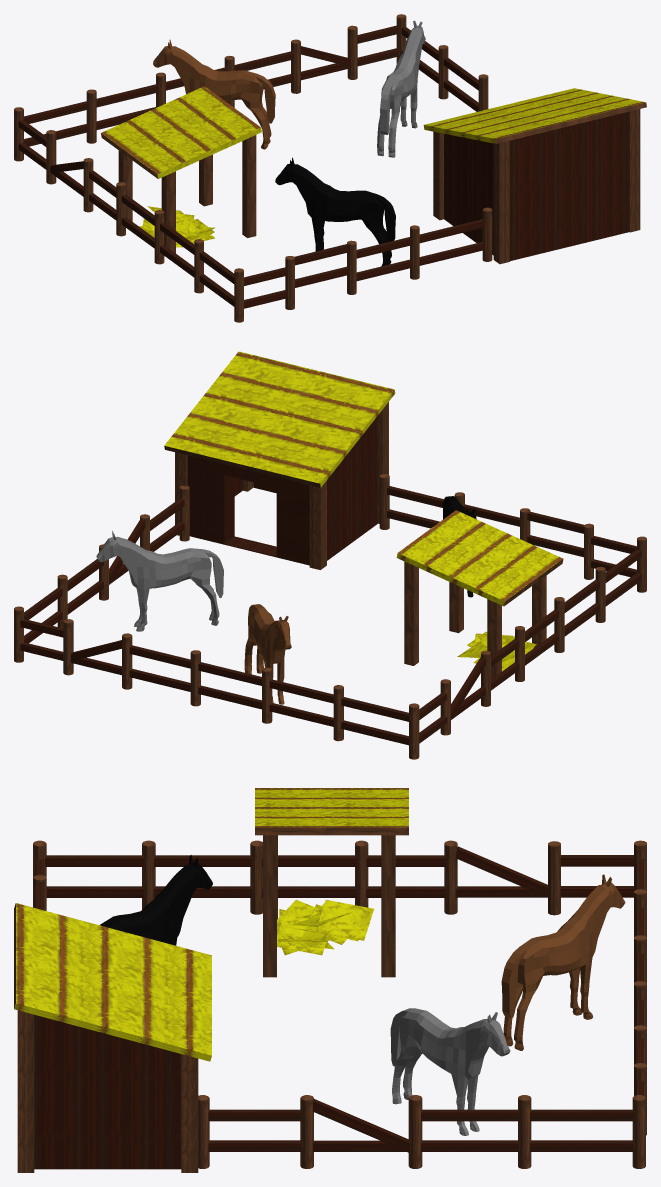
The model's file is BatElevage.fbx.
3 renders of one model, top to bottom at view 1: azimuth 30°, elevation 25°; view 2: azimuth 150°, elevation 25°; view 3: azimuth 270°, elevation 25°, orthographic. The views are drawn at different scales.
Visible parts, largest first — view 1: MinerHouse, Cube.027, Chaval, Chaval.002, Chaval.001, Cube.009, Cube, Cube.001, Cube.011, Cube.002, Cube.012, Cube.026 (+27 smaller); view 2: MinerHouse, Cube.027, Chaval.001, Chaval.002, Cube.025, Cube.011, Cube.012, Cube.013, Cube.014, Cube.002, Cube, Cube.024 (+16 smaller); view 3: MinerHouse, Chaval.002, Chaval.001, Cube.027, Chaval, Cube.019, Cube.020, Cube.004, Cube.023, Cube.025, Cube.009, Cube.006 (+20 smaller).
Part boxes in pixels (bbox=[...]): MinerHouse: bbox=[423, 88, 646, 264]; Cube.027: bbox=[101, 86, 261, 178]; Chaval: bbox=[275, 157, 395, 266]; Chaval.002: bbox=[153, 39, 275, 149]; Chaval.001: bbox=[377, 20, 425, 157]; Cube.009: bbox=[242, 135, 256, 237]; Cube: bbox=[419, 219, 484, 265]; Cube.001: bbox=[356, 237, 412, 280]; Cube.011: bbox=[24, 101, 89, 146]; Cube.002: bbox=[294, 244, 349, 287]; Cube.012: bbox=[96, 84, 158, 129]; Cube.026: bbox=[161, 171, 175, 253]; MinerHouse: bbox=[164, 351, 395, 569]; Cube.027: bbox=[396, 510, 562, 606]; Chaval.001: bbox=[96, 531, 223, 631]; Chaval.002: bbox=[244, 604, 291, 704]; Cube.025: bbox=[404, 561, 418, 665]; Cube.011: bbox=[341, 697, 408, 745]; Cube.012: bbox=[269, 679, 333, 726]; Cube.013: bbox=[198, 662, 261, 709]; Cube.014: bbox=[129, 645, 190, 691]; Cube.002: bbox=[527, 511, 584, 557]; Cube: bbox=[387, 486, 443, 528]; Cube.024: bbox=[487, 599, 501, 679]; MinerHouse: bbox=[14, 903, 211, 1172]; Chaval.002: bbox=[501, 874, 625, 1050]; Chaval.001: bbox=[390, 1008, 510, 1135]; Cube.027: bbox=[255, 788, 408, 827]; Chaval: bbox=[99, 855, 212, 945]; Cube.019: bbox=[530, 1109, 633, 1151]; Cube.020: bbox=[421, 1109, 518, 1151]; Cube.004: bbox=[45, 855, 143, 897]; Cube.023: bbox=[208, 1109, 301, 1151]; Cube.025: bbox=[381, 835, 395, 977]; Cube.009: bbox=[263, 835, 276, 977]; Cube.006: bbox=[262, 855, 356, 897].
Size of the model in its own units: 835 by 255 by 833.
6 materials, 3 textured.
